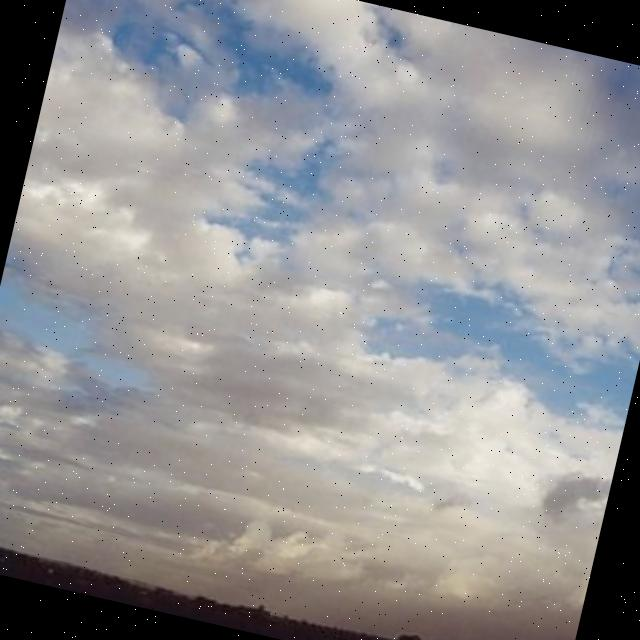Sc: (1, 1, 640, 569)
